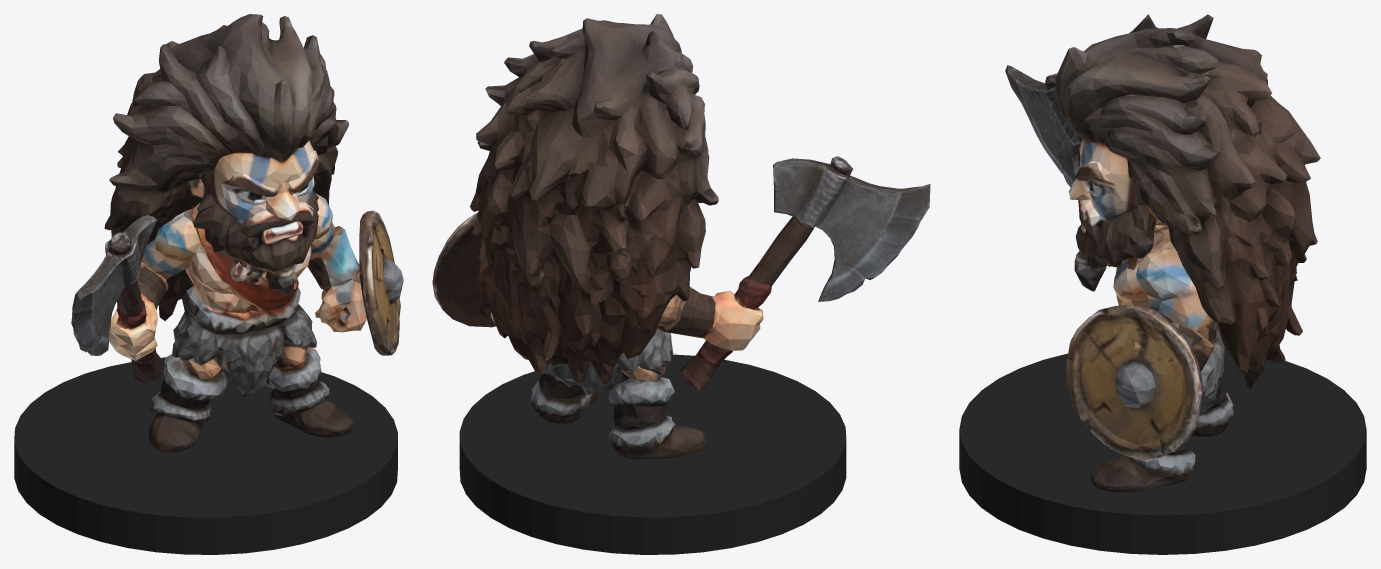
Rendered from darkoath-savager.glb.
3 views of the same model, side by side, from view 1: azimuth 30°, elevation 25°; view 2: azimuth 150°, elevation 25°; view 3: azimuth 270°, elevation 25° (orthographic). The views are drawn at different scales.
Parts seen in each view (by area): view 1: figure, base; view 2: figure, base; view 3: figure, base.
Part boxes in pixels (bbox=[...]): figure: bbox=[71, 14, 403, 452]; base: bbox=[14, 357, 397, 554]; figure: bbox=[432, 14, 930, 459]; base: bbox=[459, 354, 846, 554]; figure: bbox=[1005, 14, 1320, 492]; base: bbox=[959, 347, 1366, 554].
Size of the model in its own units: 1.37 by 1.42 by 1.12.
Materials: 2 (1 with a texture image).
